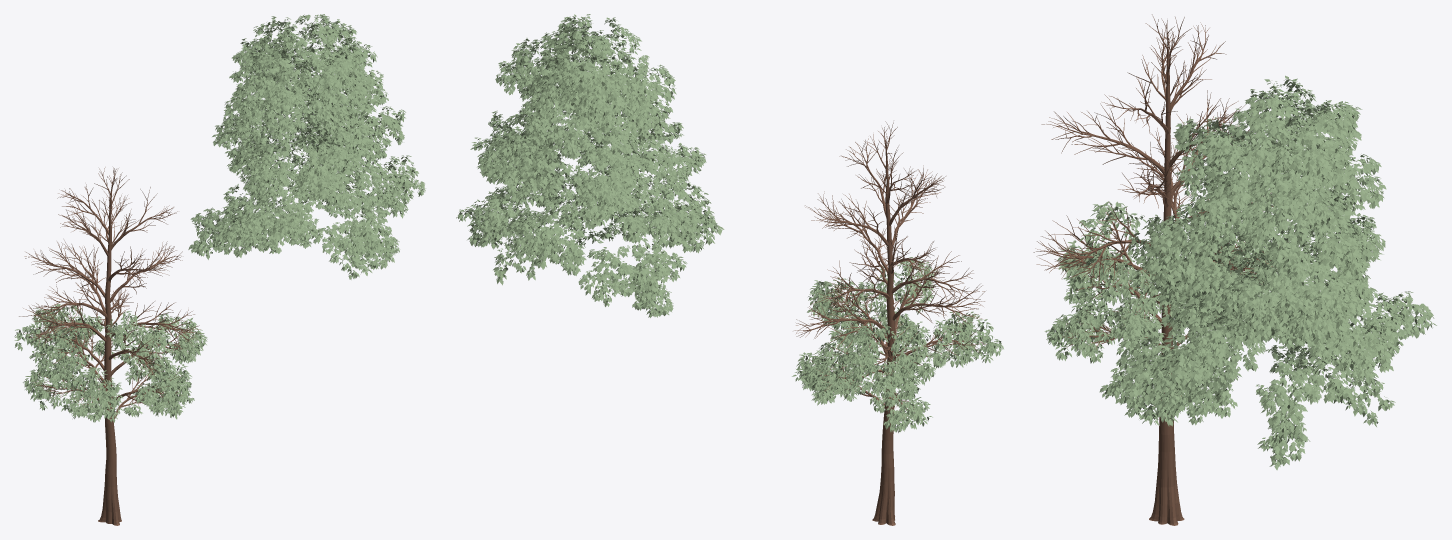
The model's file is lujiazui-33.glb.
3 renders of one model, left to right at view 1: azimuth 30°, elevation 25°; view 2: azimuth 150°, elevation 25°; view 3: azimuth 270°, elevation 25°, orthographic. The views are drawn at different scales.
Visible parts, largest first — view 1: source_4857_leaf_summer_1_part1, source_4859_leaf_part0, source_4858_bark_part0; view 2: source_4857_leaf_summer_1_part1, source_4859_leaf_part0, source_4858_bark_part0; view 3: source_4857_leaf_summer_1_part1, source_4858_bark_part0, source_4859_leaf_part0.
Part boxes in pixels (x1,y1,x2,y2): source_4857_leaf_summer_1_part1: (188, 14, 425, 279); source_4859_leaf_part0: (14, 300, 207, 422); source_4858_bark_part0: (19, 167, 201, 525); source_4857_leaf_summer_1_part1: (456, 14, 724, 317); source_4859_leaf_part0: (792, 257, 1003, 432); source_4858_bark_part0: (794, 121, 986, 525); source_4857_leaf_summer_1_part1: (1099, 75, 1436, 470); source_4858_bark_part0: (1033, 14, 1288, 525); source_4859_leaf_part0: (1044, 201, 1302, 426).
Size of the model in its own units: 14.08 by 13.36 by 8.17.
